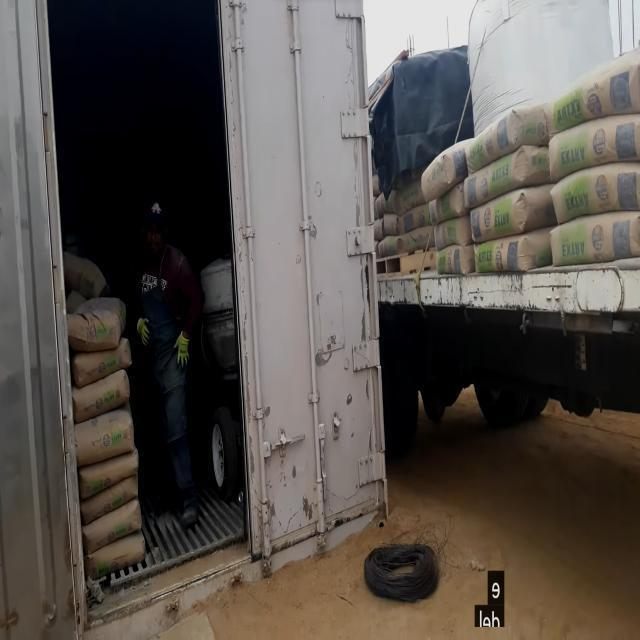gunny_bag: (548, 48, 640, 131), (550, 113, 640, 180), (466, 103, 550, 174), (464, 144, 552, 208), (551, 162, 640, 222), (471, 183, 557, 242), (551, 211, 640, 265), (73, 399, 133, 467), (474, 228, 554, 272), (82, 497, 141, 555), (422, 138, 474, 201), (66, 297, 125, 351), (77, 447, 138, 499), (71, 369, 129, 423), (69, 337, 131, 387), (83, 530, 145, 580), (79, 474, 137, 525), (430, 181, 470, 224), (434, 213, 473, 250), (437, 244, 476, 274)
